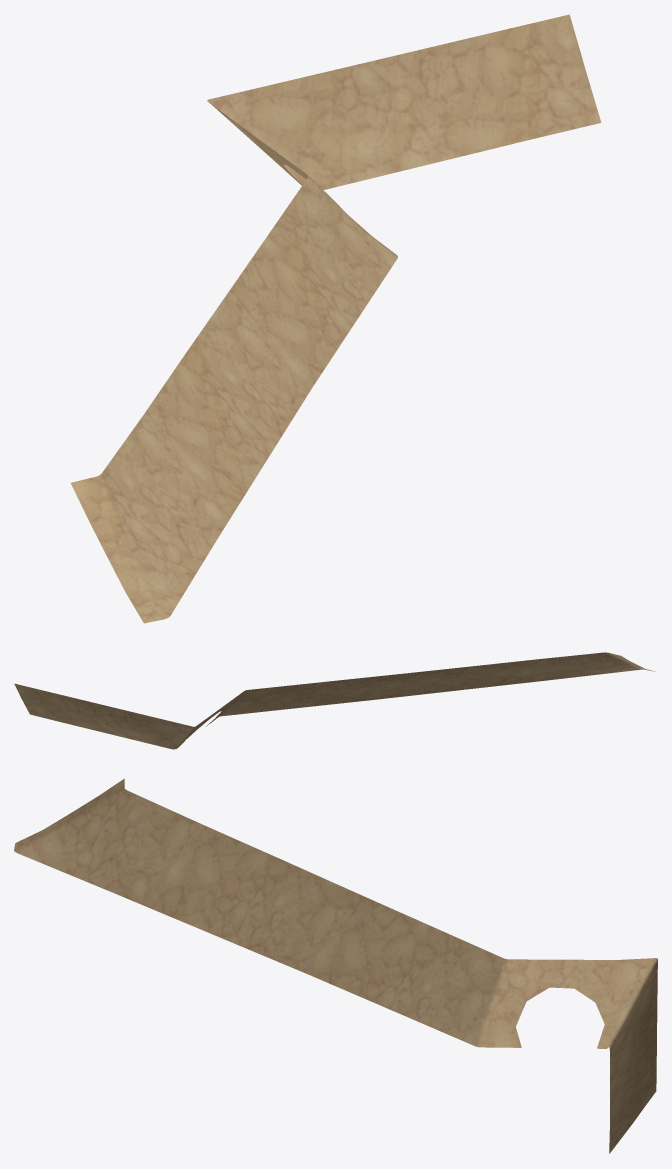
The model's file is SM_ENV_LKNVLD_Ground_Hill_Right_HillSide_01.FBX.
3 renders of one model, top to bottom at view 1: azimuth 30°, elevation 25°; view 2: azimuth 150°, elevation 25°; view 3: azimuth 270°, elevation 25°, orthographic. The views are drawn at different scales.
Visible parts, largest first — view 1: SM_ENV_LKNVLD_Ground_Hill_Right_HillSide_01; view 2: SM_ENV_LKNVLD_Ground_Hill_Right_HillSide_01; view 3: SM_ENV_LKNVLD_Ground_Hill_Right_HillSide_01.
Part boxes in pixels (x1=…): SM_ENV_LKNVLD_Ground_Hill_Right_HillSide_01: x1=71, y1=14, x2=601, y2=623; SM_ENV_LKNVLD_Ground_Hill_Right_HillSide_01: x1=14, y1=652, x2=655, y2=749; SM_ENV_LKNVLD_Ground_Hill_Right_HillSide_01: x1=14, y1=778, x2=657, y2=1153.
Bounding box in the file's own units: 5442 × 532 × 4764.
